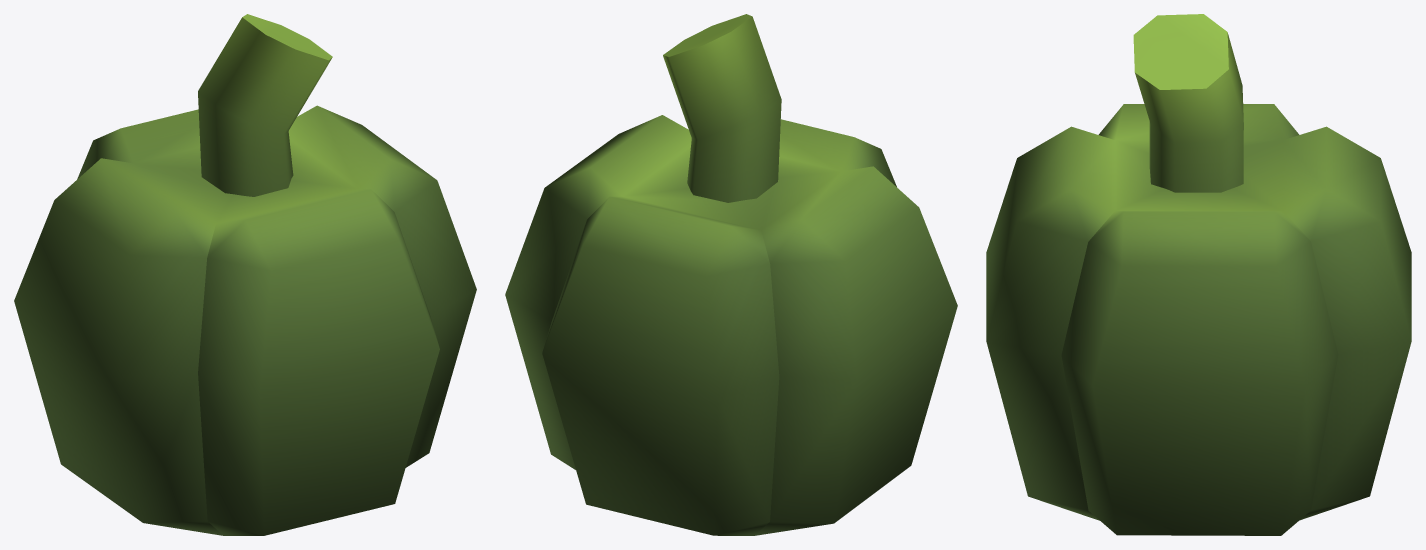
File: paprika_green.fbx
3 renders of one model, left to right at view 1: azimuth 30°, elevation 25°; view 2: azimuth 150°, elevation 25°; view 3: azimuth 270°, elevation 25°, orthographic. The views are drawn at different scales.
Parts seen in each view (by area): view 1: paprika_green; view 2: paprika_green; view 3: paprika_green.
Part boxes in pixels (x1=…): paprika_green: x1=14, y1=14, x2=476, y2=535; paprika_green: x1=505, y1=14, x2=957, y2=535; paprika_green: x1=986, y1=14, x2=1411, y2=535.
Size of the model in its own units: 22.67 by 29 by 22.73.
